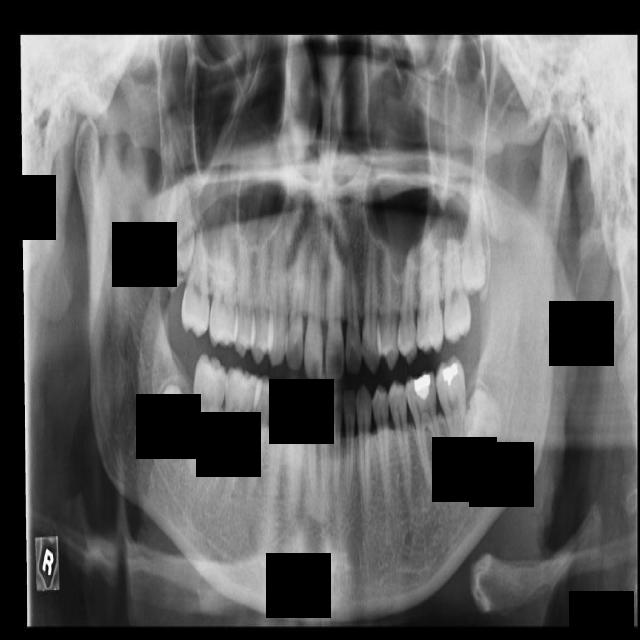3M ESPE Implant: (157, 167, 205, 276)
52: (429, 354, 472, 406), (400, 370, 444, 416)
73: (608, 570, 622, 590)
BioHorizons Implant: (435, 206, 473, 346)
BioLife Implant: (455, 183, 488, 297)
Biomet 3i Implant: (462, 387, 504, 461)
Blue Sky Bio Implant: (431, 354, 479, 479)
Caries: (178, 210, 216, 338)
Implant: (184, 352, 231, 464)
Keystone Dental Implant: (151, 384, 192, 462)
